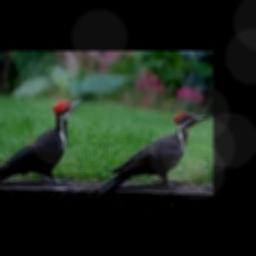Woodpecker: (94, 111, 210, 196), (0, 99, 83, 185)
